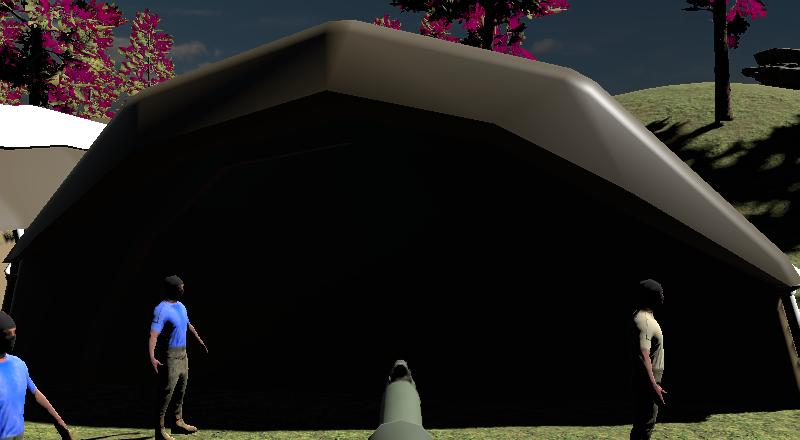Human: (142, 268, 213, 440), (0, 299, 85, 440)
